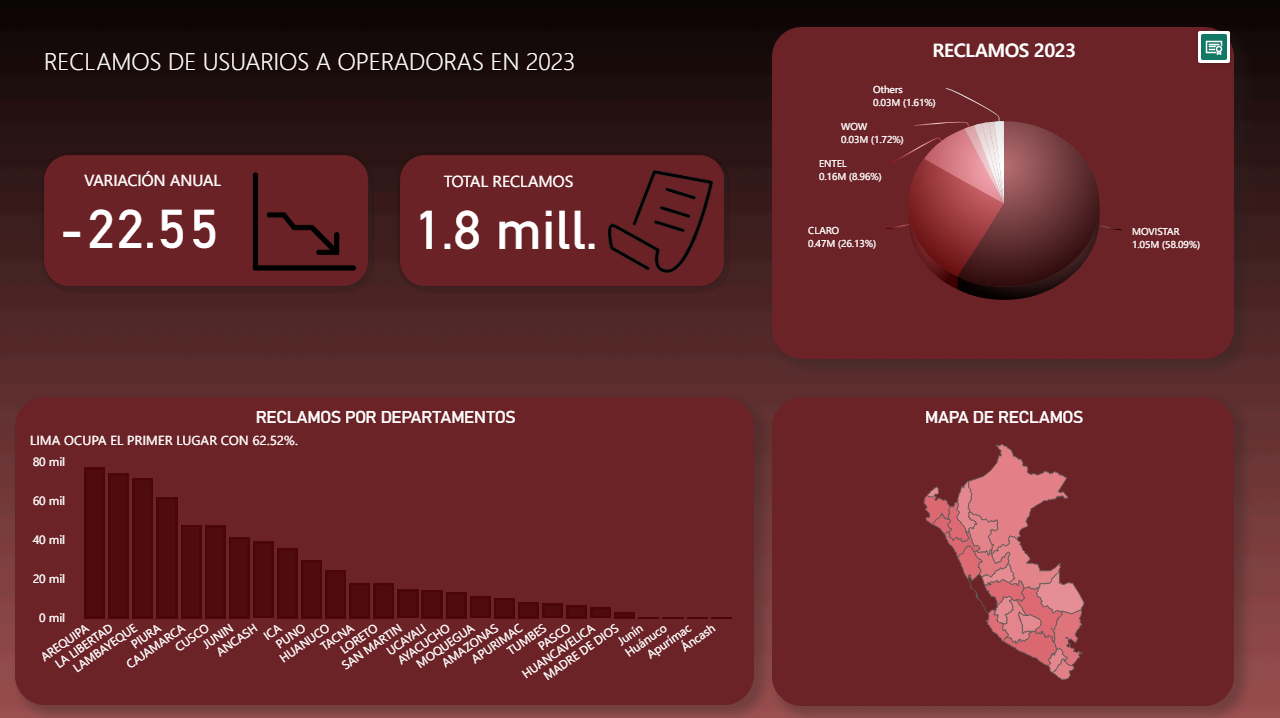

Layout of this report page (visuals, bound fields, positions):
{"tool":"powerbi","page":{"name":"RECLAMOS OPERADORAS 2023","canvas":[1280,720],"ordinal":0},"visuals":[{"type":"advancedPieDonut812F760774854B428BA58A87279F6AF6","title":"RECLAMOS 2023","fields":{"category":["Tabla1.Empresa operadora"],"measure":["Calendario.TOTAL RECLAMOS"]},"box":[771.8,28.1,461.9,331.9],"z":0},{"type":"shapeMap","title":"MAPA DE RECLAMOS","fields":{"Category":["Tabla1.Departamento"],"Value":["Calendario.TOTAL RECLAMOS"]},"box":[771.8,397.8,461.9,309.1],"z":1000},{"type":"clusteredColumnChart","title":"RECLAMOS POR DEPARTAMENTOS","fields":{"Category":["Tabla1.Departamento"],"Y":["Calendario.TOTAL RECLAMOS"]},"box":[14.9,397.8,739.3,308.2],"z":2000},{"type":"cardVisual","fields":{"Data":["Calendario.VARIACIÓN ANUAL","Calendario.TOTAL RECLAMOS"]},"box":[27.2,138.7,714.7,166],"z":3000},{"type":"textbox","box":[38.6,40.4,691,51.8],"z":4000}]}

Visuals, with their boxes in screenshot pixels (x1, y1, x2, y2), scaled from the page's 1280x720 canvas onto the 1280x718 screenshot:
"RECLAMOS 2023" advancedPieDonut812F760774854B428BA58A87279F6AF6: rect(772, 28, 1234, 359)
"MAPA DE RECLAMOS" shapeMap: rect(772, 397, 1234, 705)
"RECLAMOS POR DEPARTAMENTOS" clusteredColumnChart: rect(15, 397, 754, 704)
cardVisual - Calendario.VARIACIÓN ANUAL x Calendario.TOTAL RECLAMOS: rect(27, 138, 742, 304)
textbox: rect(39, 40, 730, 92)
